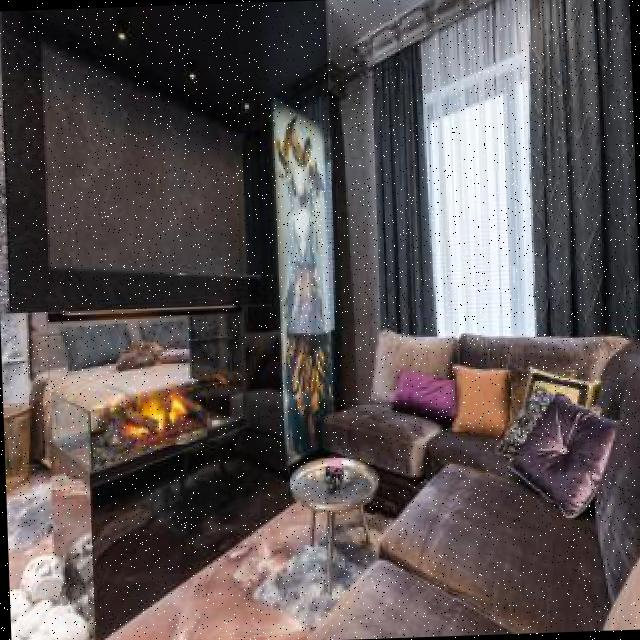fire: (89, 378, 207, 447)
